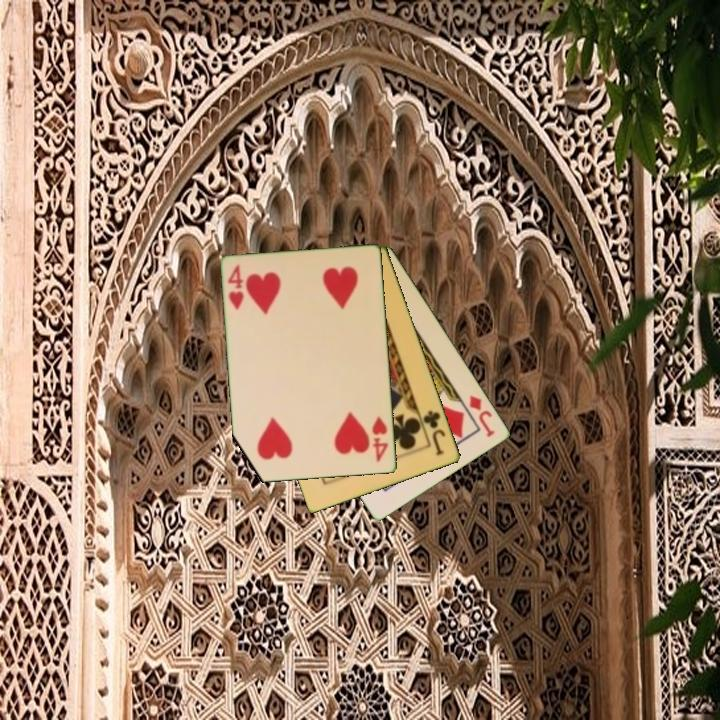4h: (224, 261, 247, 313), (369, 413, 391, 465)
Jc: (420, 407, 449, 459)
Jd: (466, 392, 498, 440)
